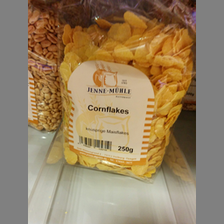cereal: (49, 20, 195, 180)
